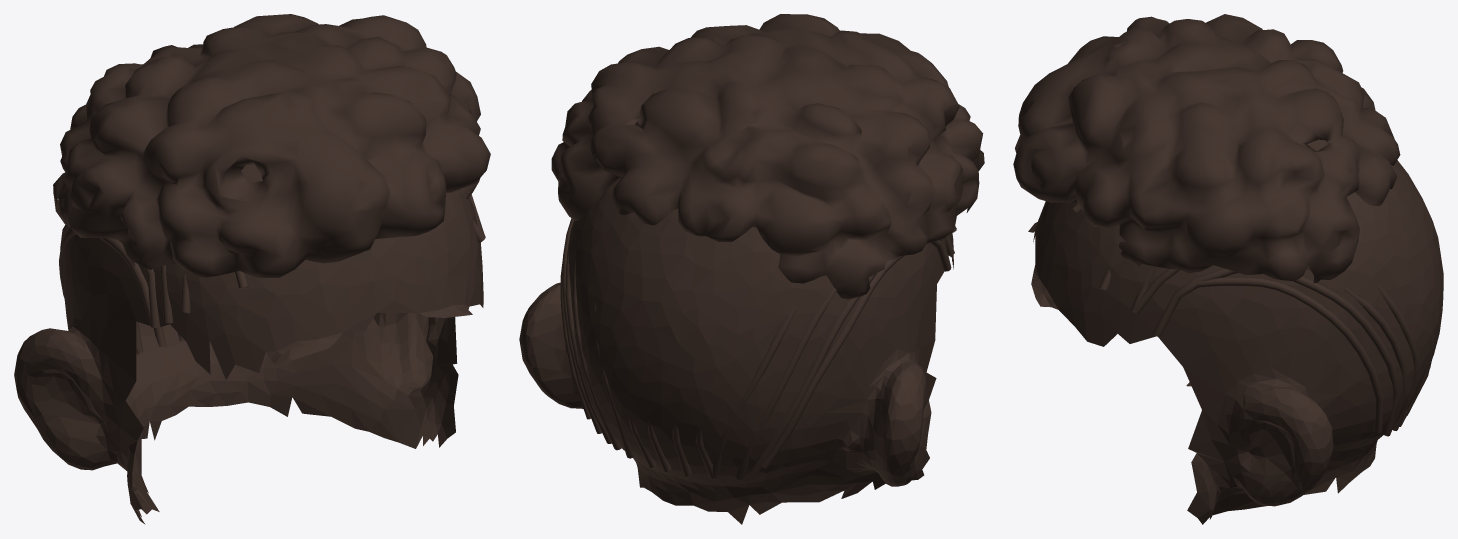
Rendered from curls.glb.
3 renders of one model, left to right at view 1: azimuth 30°, elevation 25°; view 2: azimuth 150°, elevation 25°; view 3: azimuth 270°, elevation 25°, orthographic. The views are drawn at different scales.
Visible parts, largest first — view 1: Hair, HairScalp, HairPulledRootStrands; view 2: HairScalp, Hair, HairPulledRootStrands; view 3: Hair, HairScalp, HairPulledRootStrands.
Part boxes in pixels (left/top/right/bottom): Hair: left=53, top=14, right=490, bottom=277; HairScalp: left=14, top=164, right=483, bottom=524; HairPulledRootStrands: left=59, top=191, right=485, bottom=354; HairScalp: left=519, top=178, right=953, bottom=524; Hair: left=551, top=14, right=984, bottom=299; HairPulledRootStrands: left=560, top=125, right=956, bottom=479; Hair: left=1013, top=14, right=1400, bottom=283; HairScalp: left=1028, top=139, right=1443, bottom=524; HairPulledRootStrands: left=1072, top=203, right=1434, bottom=436.
Size of the model in its own units: 0.459 by 0.4469 by 0.4324.
